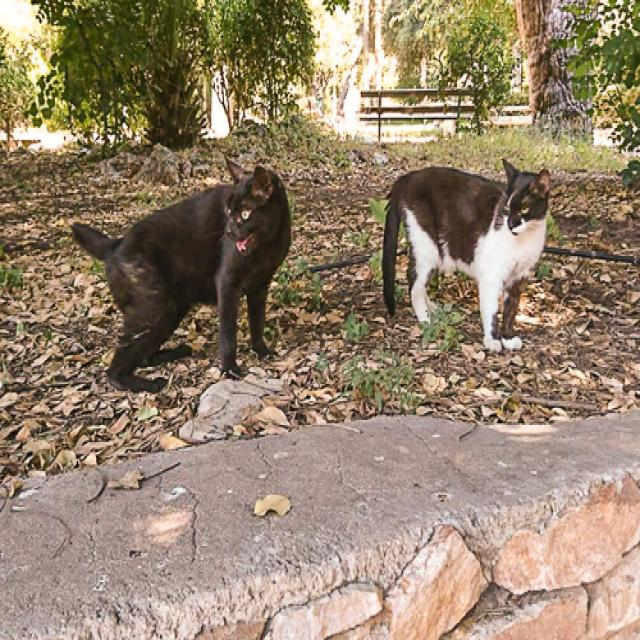cat: (71, 160, 290, 391), (382, 160, 550, 351)
